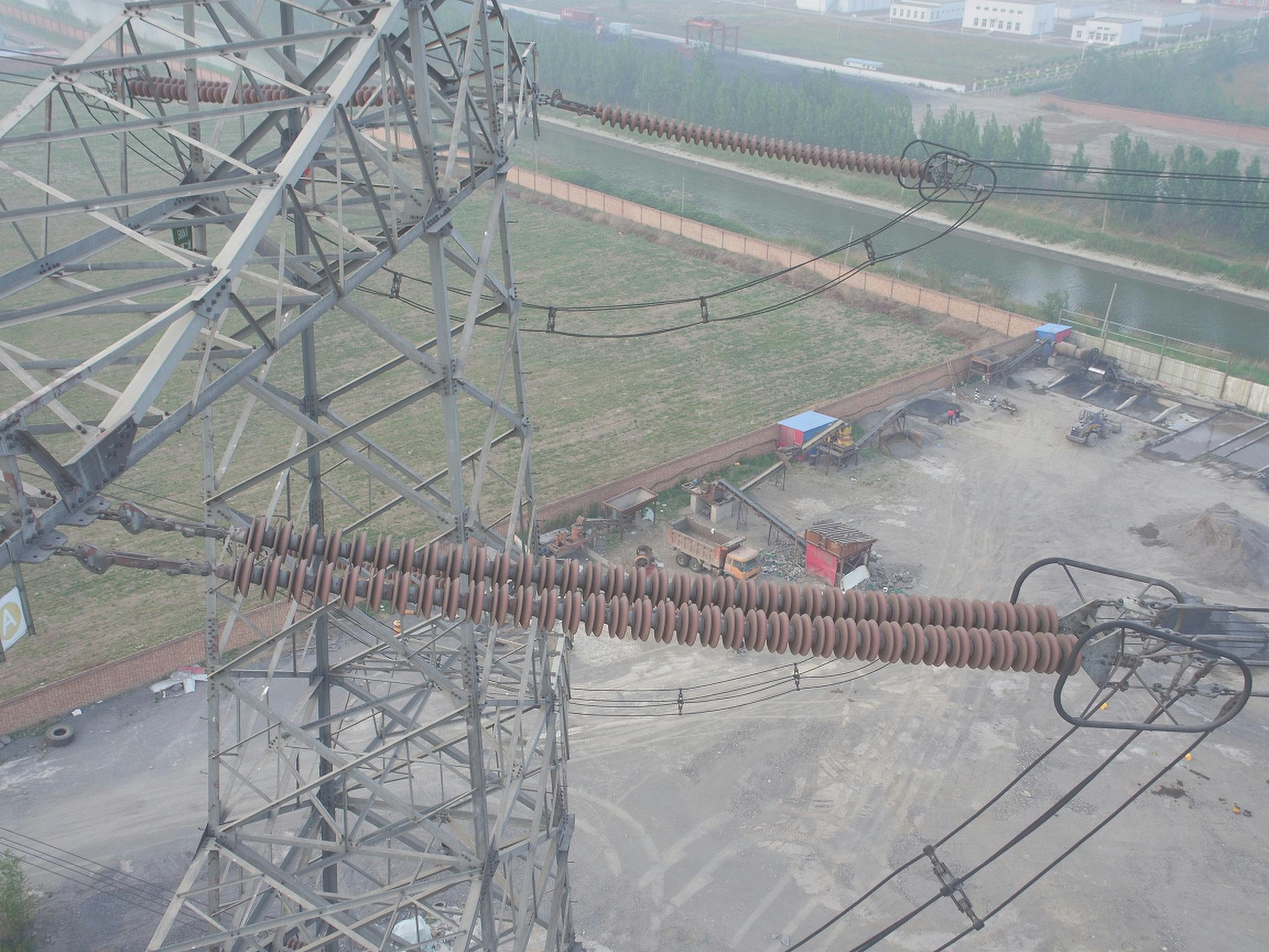insulator: (218, 510, 1084, 679), (590, 96, 934, 183), (122, 72, 415, 109)
